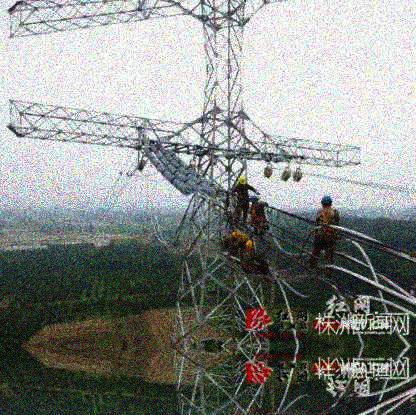helmet: (320, 195, 333, 210)
